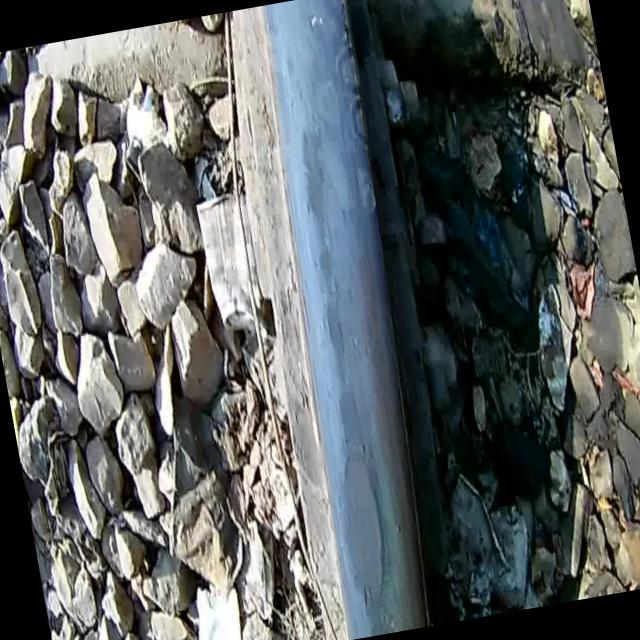Squats: (213, 0, 478, 640)
